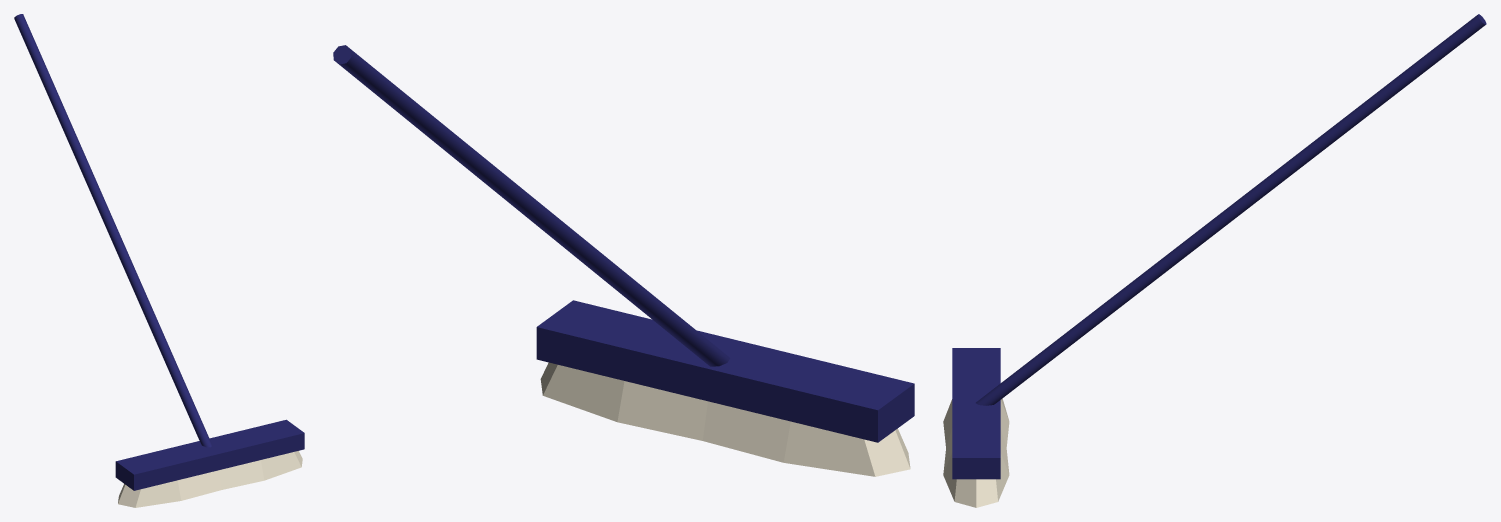
The model's file is SM_Mop.fbx.
3 renders of one model, left to right at view 1: azimuth 30°, elevation 25°; view 2: azimuth 150°, elevation 25°; view 3: azimuth 270°, elevation 25°, orthographic. The views are drawn at different scales.
Visible parts, largest first — view 1: SM_Mop; view 2: SM_Mop; view 3: SM_Mop.
Boxes of the visible parts, x1,y1,x2,y2 form: SM_Mop: [14, 14, 304, 507]; SM_Mop: [333, 45, 914, 476]; SM_Mop: [943, 14, 1486, 507].
Bounding box in the file's own units: 0.3115 × 0.5288 × 0.6005.
